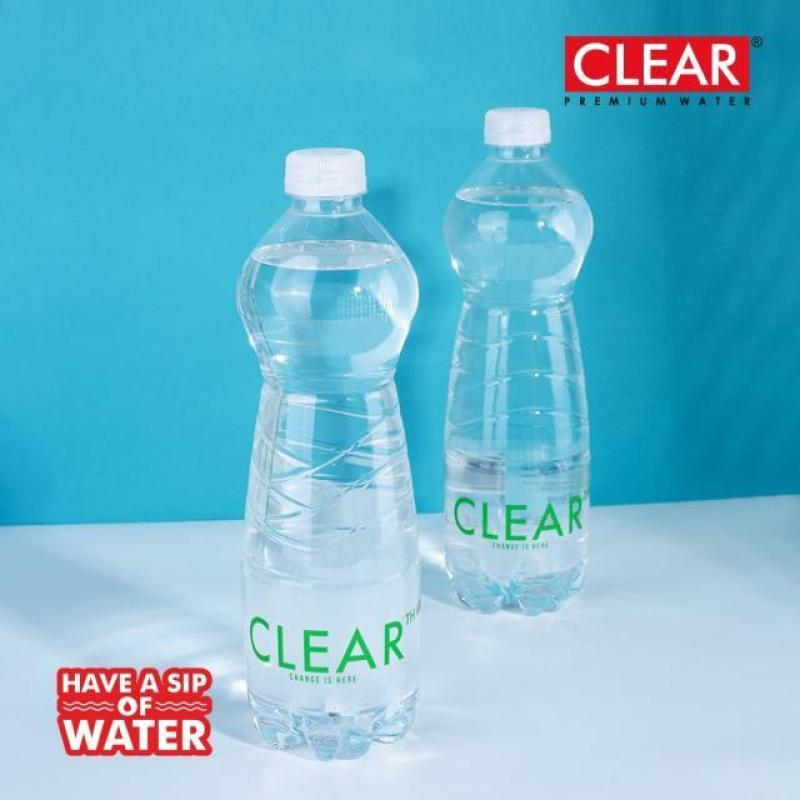botella: (237, 146, 425, 764), (439, 104, 596, 617)
